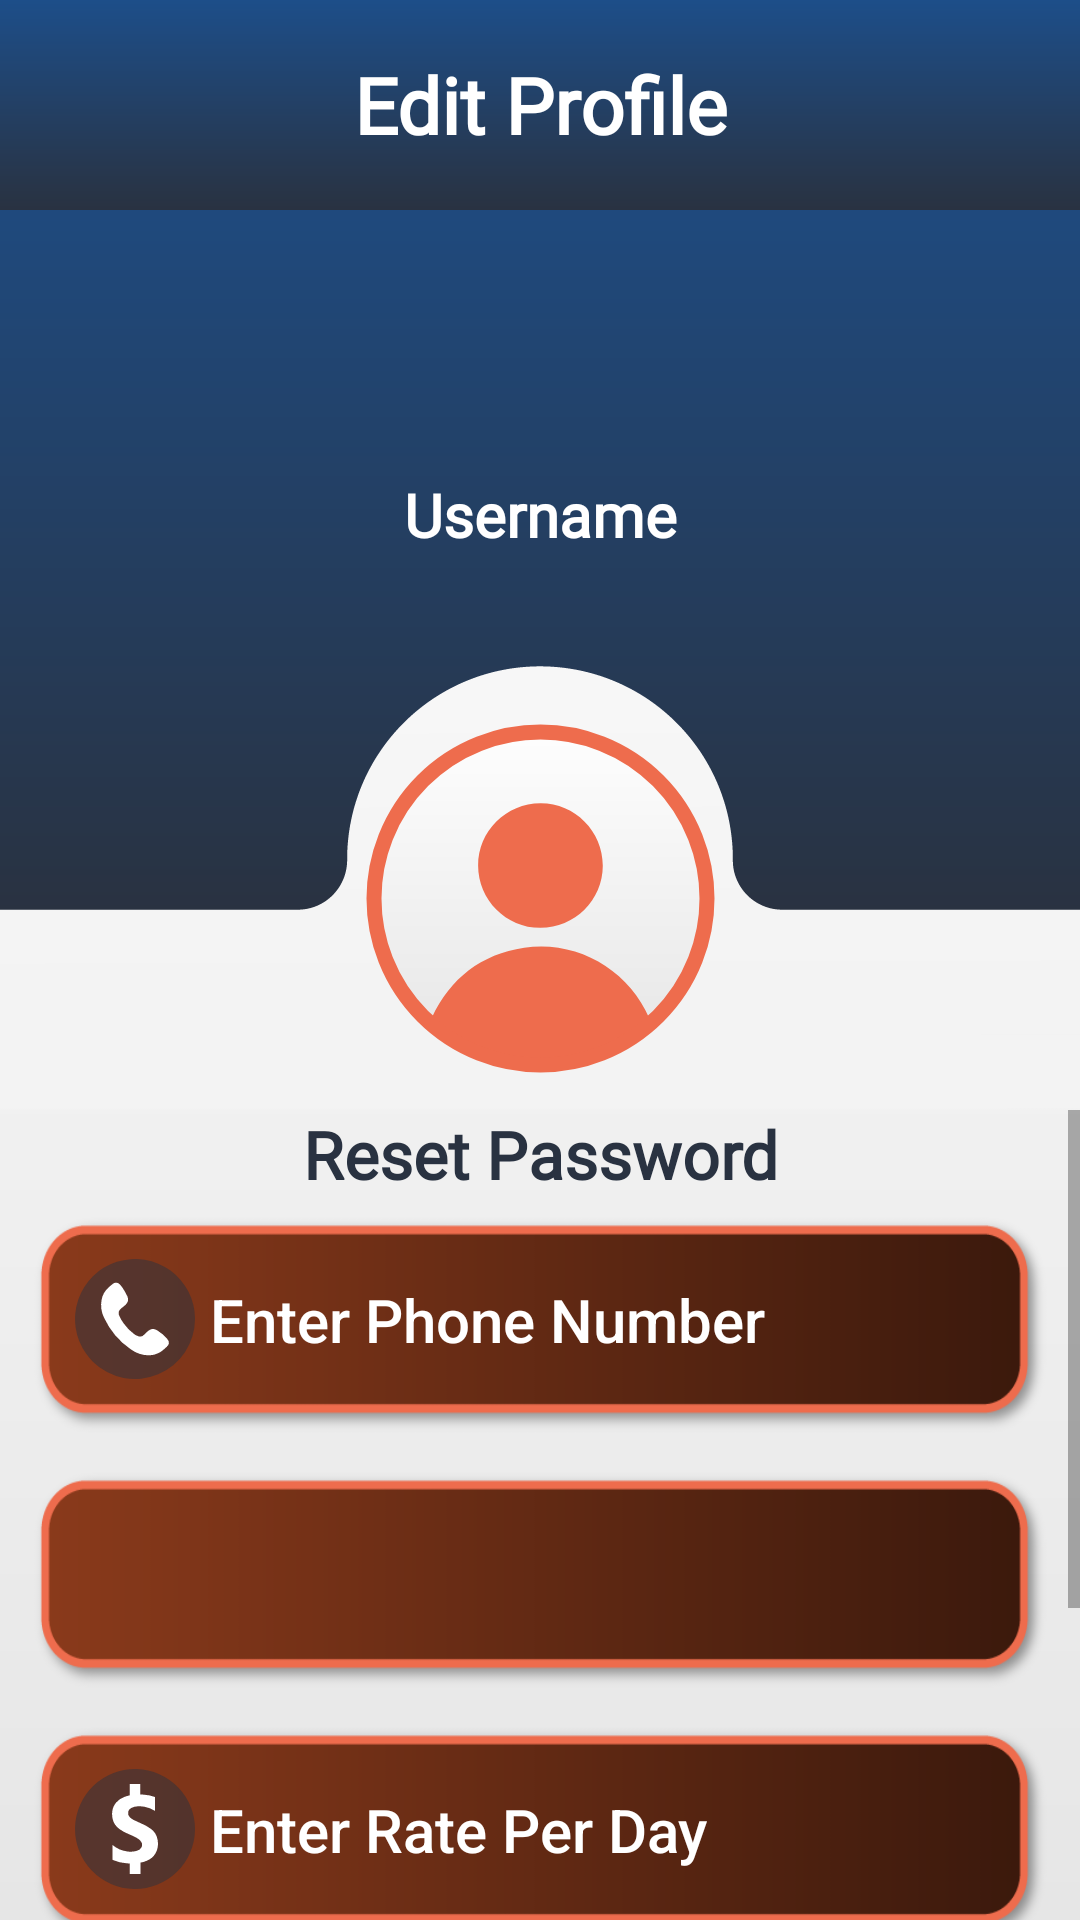

Named icons in this screenshot (1080 x 1920) and their bounding boxes, (left=x1, top=y1, right=x2, bottom=y2):
enter profile: (left=366, top=724, right=715, bottom=1073)
